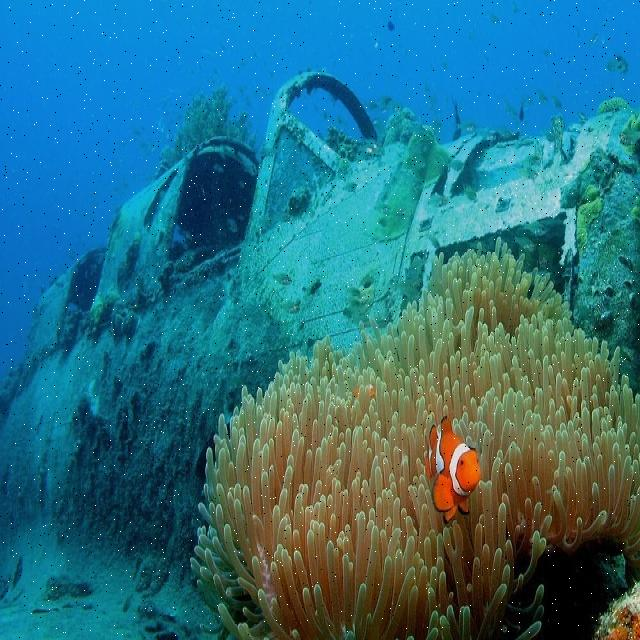aquatic plants: (156, 88, 251, 162)
fish: (421, 416, 481, 523)
reefs: (192, 240, 639, 639)
wrecks-ruins: (0, 76, 639, 639)
